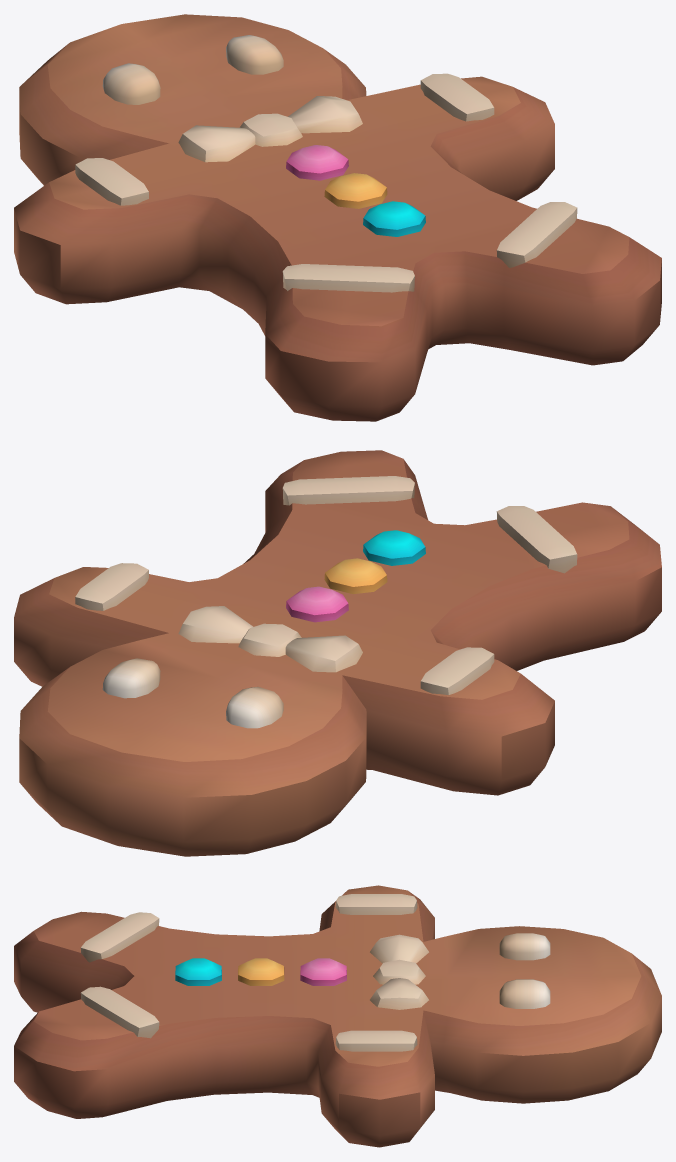
File: pepparkaksgubbe.glb
The picture shows the model from 3 angles, top to bottom: view 1: azimuth 30°, elevation 25°; view 2: azimuth 150°, elevation 25°; view 3: azimuth 270°, elevation 25°; orthographic projection. The views are drawn at different scales.
Parts seen in each view (by area): view 1: gingerbread_man; view 2: gingerbread_man; view 3: gingerbread_man.
Part boxes in pixels (x1,y1,x2,y2): gingerbread_man: [14, 14, 661, 421]; gingerbread_man: [14, 450, 661, 856]; gingerbread_man: [14, 885, 661, 1147].
Size of the model in its own units: 0.5577 by 0.1129 by 0.7348.
1 material, 1 textured.
